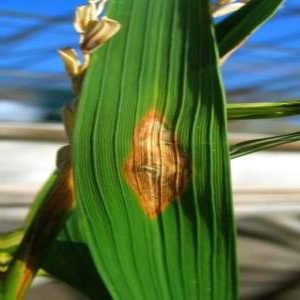Brown_Spot: (111, 99, 195, 246)
